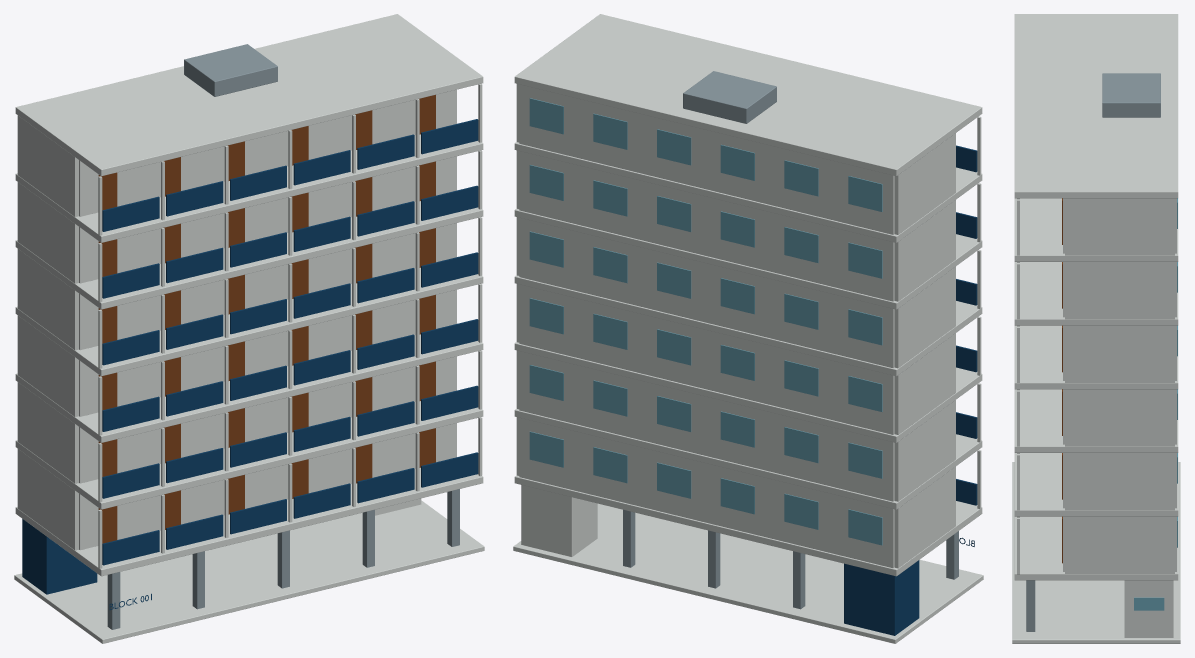
The picture shows the model from 3 angles, left to right: view 1: azimuth 30°, elevation 25°; view 2: azimuth 150°, elevation 25°; view 3: azimuth 270°, elevation 25°; orthographic projection. The views are drawn at different scales.
Visible parts, largest first — view 1: SLAB_Storey.006, STOREY_FacadeAndCorridor.004, STOREY_FacadeAndCorridor.001, STOREY_FacadeAndCorridor.002, STOREY_FacadeAndCorridor.003, STOREY_FacadeAndCorridor, STOREY_FacadeAndCorridor.005, GROUND, SLAB_Storey.001, SLAB_Storey.004, SLAB_Storey.005, SLAB_Storey (+9 smaller); view 2: SLAB_Storey.006, STOREY_FacadeAndCorridor.002, STOREY_FacadeAndCorridor.003, STOREY_FacadeAndCorridor, STOREY_FacadeAndCorridor.005, STOREY_FacadeAndCorridor.001, STOREY_FacadeAndCorridor.004, GROUND, LIFT_Core, STAIR_Core, SLAB_Storey.005, SLAB_Storey.001 (+8 smaller); view 3: SLAB_Storey.006, GROUND, STOREY_FacadeAndCorridor.001, STOREY_FacadeAndCorridor.004, STOREY_FacadeAndCorridor.002, STOREY_FacadeAndCorridor.003, STOREY_FacadeAndCorridor, STOREY_FacadeAndCorridor.005, SLAB_Storey, SLAB_Storey.003, SLAB_Storey.001, SLAB_Storey.004 (+6 smaller).
Part boxes in pixels (box(x1,y1,x2,y2)): SLAB_Storey.006: box(15, 14, 483, 176); STOREY_FacadeAndCorridor.004: box(17, 217, 482, 368); STOREY_FacadeAndCorridor.001: box(17, 417, 482, 568); STOREY_FacadeAndCorridor.002: box(17, 350, 482, 502); STOREY_FacadeAndCorridor.003: box(17, 284, 482, 435); STOREY_FacadeAndCorridor: box(17, 83, 482, 235); STOREY_FacadeAndCorridor.005: box(17, 150, 482, 301); GROUND: box(14, 500, 484, 643); SLAB_Storey.001: box(15, 401, 483, 509); SLAB_Storey.004: box(15, 201, 483, 309); SLAB_Storey.005: box(15, 134, 483, 242); SLAB_Storey: box(15, 467, 483, 576); SLAB_Storey.006: box(514, 14, 982, 176); STOREY_FacadeAndCorridor.002: box(516, 350, 981, 501); STOREY_FacadeAndCorridor.003: box(516, 284, 981, 434); STOREY_FacadeAndCorridor: box(516, 84, 981, 234); STOREY_FacadeAndCorridor.005: box(516, 150, 981, 301); STOREY_FacadeAndCorridor.001: box(516, 417, 981, 568); STOREY_FacadeAndCorridor.004: box(516, 217, 981, 368); GROUND: box(513, 503, 983, 643); LIFT_Core: box(844, 560, 919, 635); STAIR_Core: box(521, 485, 597, 556); SLAB_Storey.005: box(514, 142, 982, 242); SLAB_Storey.001: box(514, 408, 982, 509); SLAB_Storey.006: box(1014, 14, 1178, 198); GROUND: box(1012, 462, 1180, 643); STOREY_FacadeAndCorridor.001: box(1017, 516, 1177, 574); STOREY_FacadeAndCorridor.004: box(1017, 325, 1177, 382); STOREY_FacadeAndCorridor.002: box(1017, 453, 1177, 510); STOREY_FacadeAndCorridor.003: box(1017, 389, 1177, 446); STOREY_FacadeAndCorridor: box(1017, 198, 1177, 255); STOREY_FacadeAndCorridor.005: box(1017, 262, 1177, 319); SLAB_Storey: box(1014, 516, 1178, 580); SLAB_Storey.003: box(1014, 325, 1178, 389); SLAB_Storey.001: box(1014, 453, 1178, 516); SLAB_Storey.004: box(1014, 262, 1178, 325).
Bounding box in the file's own units: 18.02 × 22 × 7.2.
